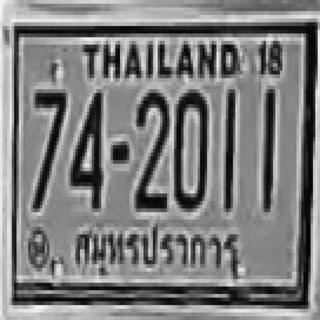N00: (172, 88, 207, 206)
N01: (261, 86, 273, 208), (222, 88, 234, 206)
N02: (134, 89, 168, 215)
N04: (68, 88, 104, 212)
N07: (32, 88, 65, 206)
P57: (69, 217, 244, 277)
